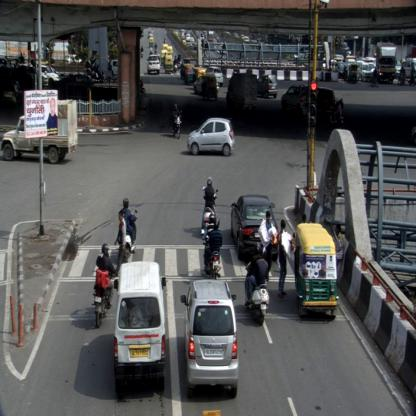car: (181, 276, 238, 398), (114, 264, 166, 392), (230, 196, 277, 260), (186, 113, 236, 157), (258, 75, 278, 97), (193, 75, 215, 94), (148, 54, 160, 76)
motorcycle: (90, 244, 117, 328), (244, 244, 269, 325), (203, 216, 225, 276), (202, 180, 219, 234)
truck: (0, 98, 76, 166), (225, 73, 257, 114), (375, 42, 396, 82)
